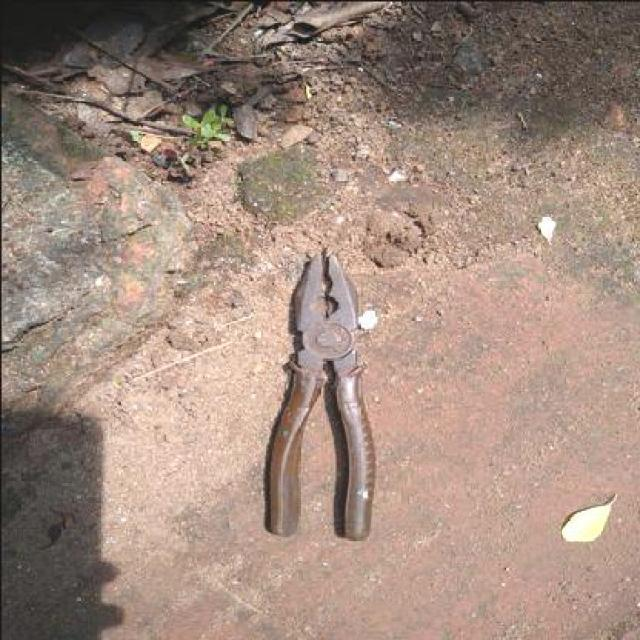pliers: (259, 248, 376, 537)
